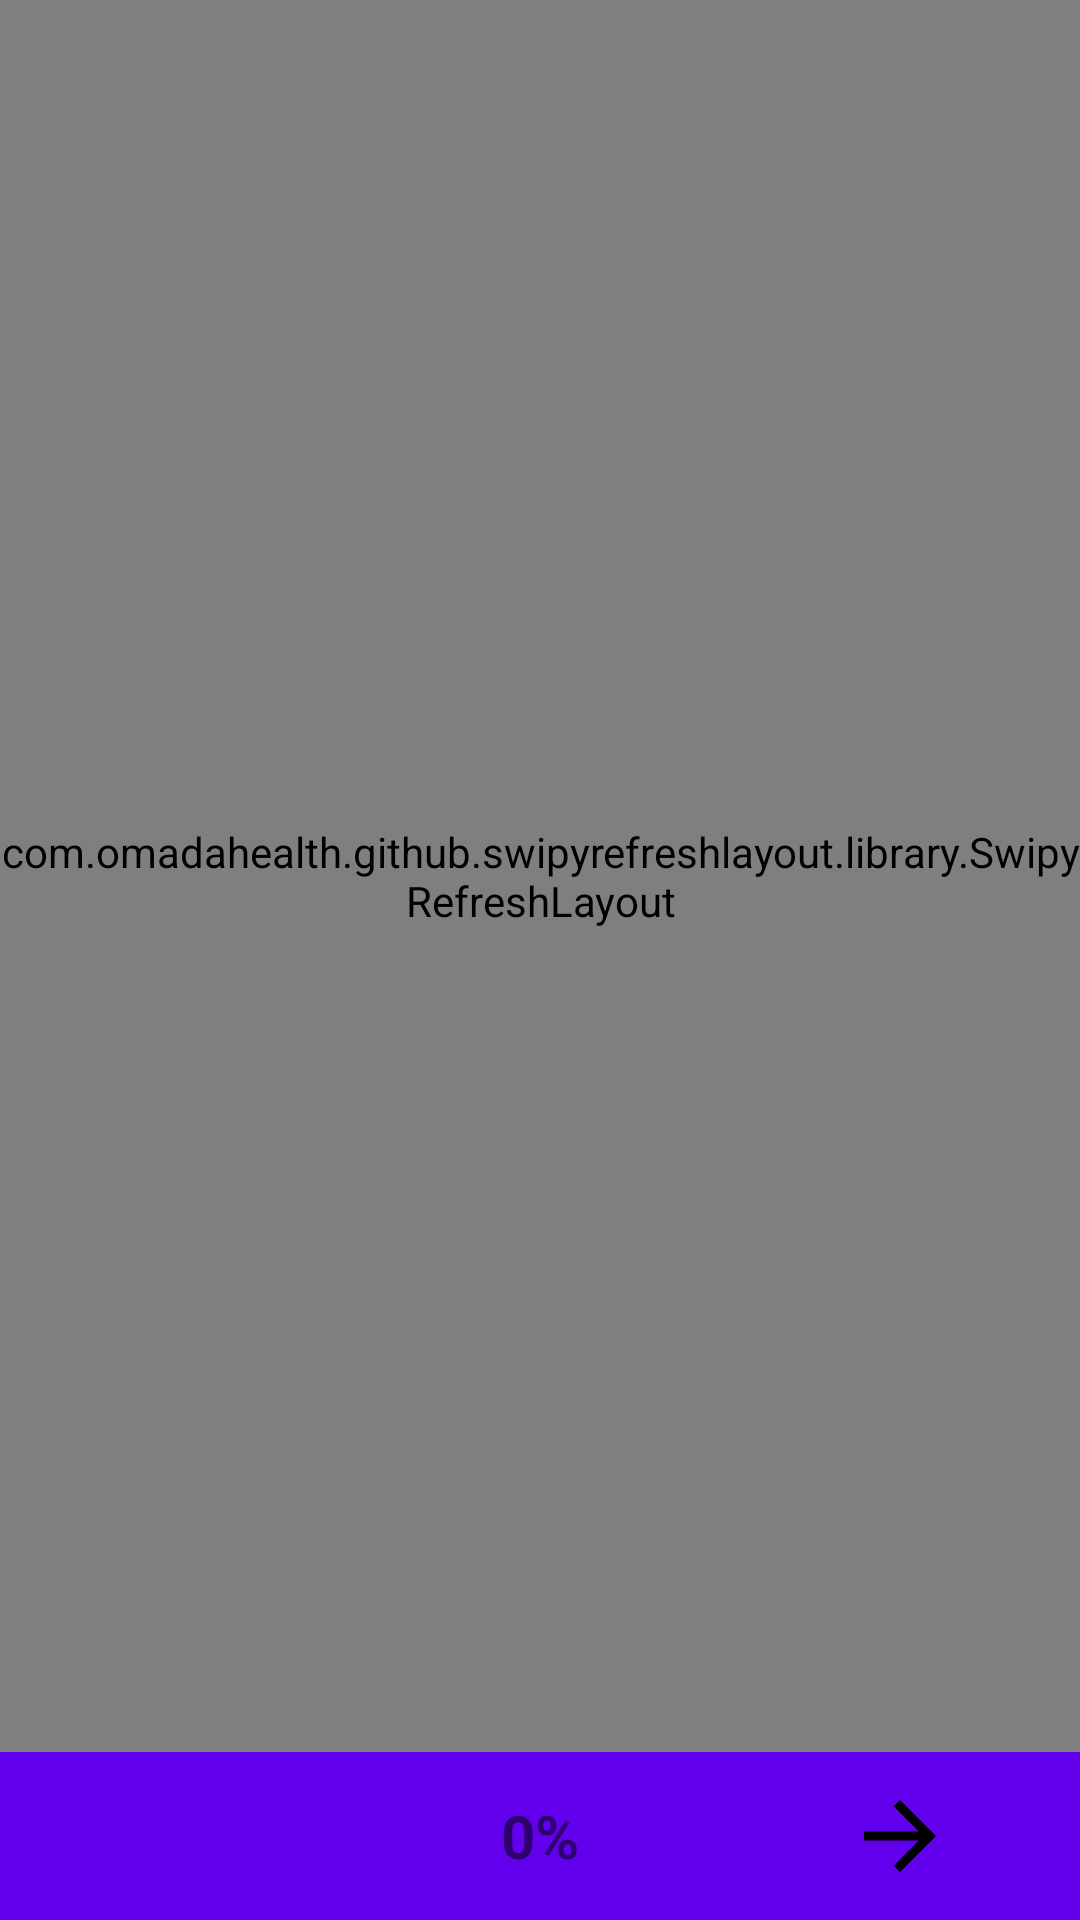

Named icons in this screenshot (1080 × 1920) and their bounding boxes, (x1, y1, x2, y2):
Right Navigation: (864, 1800, 936, 1872)
